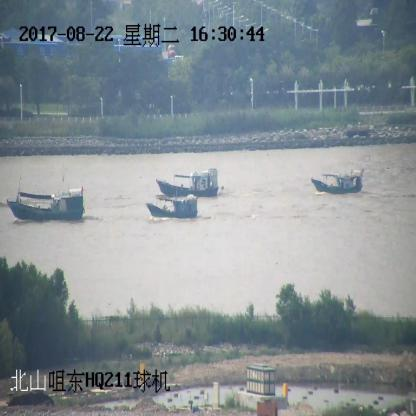Fishing Boat: (7, 179, 84, 223), (156, 170, 221, 198), (311, 171, 365, 194), (148, 196, 198, 218)
